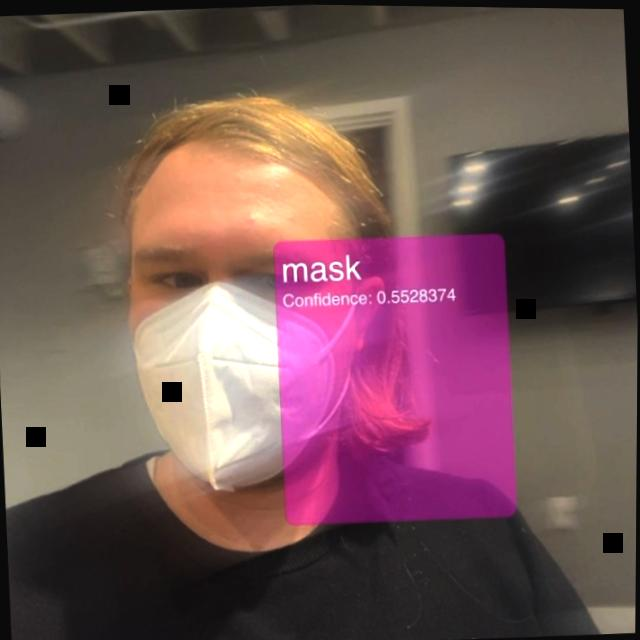Mask: (83, 87, 447, 574)
